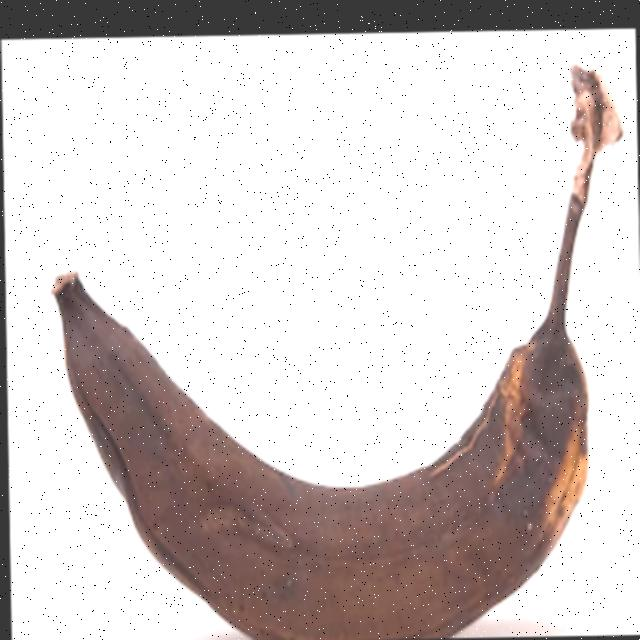Rotten: (33, 45, 634, 640)
